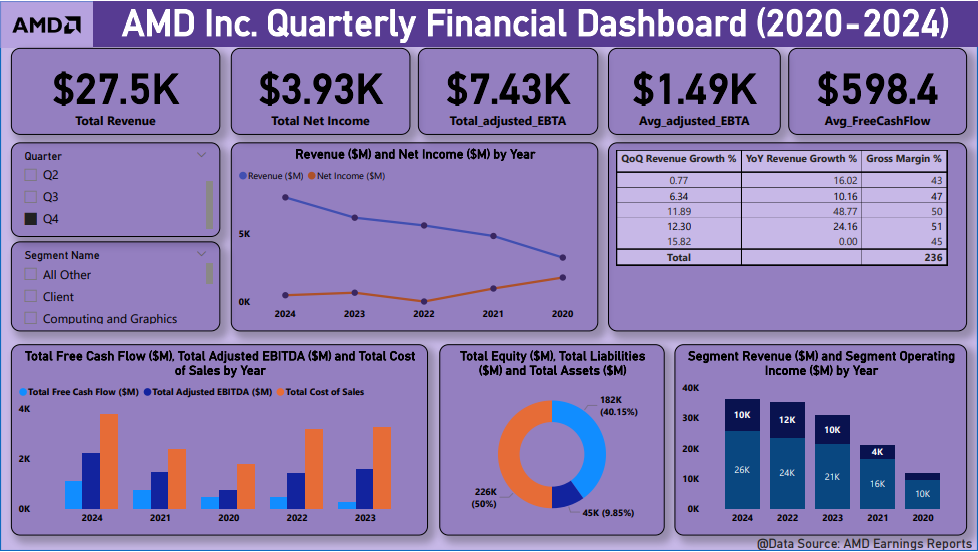

This screenshot's page, from the dashboard's own definition file:
{"tool":"powerbi","page":{"name":"Page 1","canvas":[1280,720],"ordinal":0},"visuals":[{"type":"shape","box":[0,0,1280,720],"z":0},{"type":"image","box":[0,0,121,60.5],"z":1000},{"type":"shape","title":"AMD Inc. Quarterly Financial Dashboard (2020-2024)","box":[121,0,1159.2,60.5],"z":2000},{"type":"shape","title":"@Data Source: AMD Earnings Reports","box":[990.7,699.8,289.4,18.7],"z":3000},{"type":"card","fields":{"Values":["master_financials.Total Revenue"]},"box":[14.4,60.5,273.6,113.8],"z":3001},{"type":"card","fields":{"Values":["master_financials.Total Net Income"]},"box":[302.4,60.5,234.7,113.8],"z":3002},{"type":"card","fields":{"Values":["master_financials.Total_adjusted_EBTA"]},"box":[547.2,60.5,236.2,113.8],"z":3003},{"type":"card","fields":{"Values":["master_financials.Avg_adjuste_EBTA"]},"box":[796.3,60.5,226.1,113.8],"z":3004},{"type":"card","fields":{"Values":["master_financials.Avg_FreeCashFlow"]},"box":[1032.5,60.5,233.3,113.8],"z":3005},{"type":"lineChart","fields":{"Category":["master_financials.Year"],"Y":["Sum(master_financials.Revenue ($M))","Sum(master_financials.Net Income ($M))"]},"box":[302.4,184.3,481,247.7],"z":3006},{"type":"slicer","fields":{"Values":["master_financials.Quarter"]},"box":[14.4,184.3,273.6,123.8],"z":3007},{"type":"slicer","fields":{"Values":["segment_performance.Segment Name"]},"box":[14.4,313.9,273.6,118.1],"z":3008},{"type":"clusteredColumnChart","fields":{"Y":["Sum(master_financials.Free Cash Flow ($M))","Sum(master_financials.Adjusted EBITDA ($M))","Sum(master_financials.Total Cost of Sales)"],"Category":["segment_performance.Year"]},"box":[14.4,449.3,545.8,250.6],"z":3009},{"type":"tableEx","fields":{"Values":["master_financials.QoQ Revenue Growth %","master_financials.YoY Revenue Growth %","Sum(master_financials.Gross Margin %)"]},"box":[796.3,184.3,469.4,247.7],"z":3010},{"type":"donutChart","fields":{"Y":["Sum(master_financials.Equity ($M))","Sum(master_financials.Liabilities ($M))","Sum(master_financials.Total Assets ($M))"]},"box":[574.6,449.3,295.2,250.6],"z":3011},{"type":"columnChart","fields":{"Y":["Sum(segment_performance.Segment Revenue ($M))","Sum(segment_performance.Segment Operating Income ($M))"],"Category":["master_financials.Year"]},"box":[882.7,449.3,383,250.6],"z":3012}]}

Visuals, with their boxes in screenshot pixels (x1, y1, x2, y2), scaled from the page's 1280x720 canvas onto the 978x552 screenshot:
shape: pyautogui.locateOnScreen(0, 0, 977, 551)
image: pyautogui.locateOnScreen(0, 0, 92, 46)
"AMD Inc. Quarterly Financial Dashboard (2020-2024)" shape: pyautogui.locateOnScreen(92, 0, 977, 46)
"@Data Source: AMD Earnings Reports" shape: pyautogui.locateOnScreen(757, 537, 977, 551)
card - master_financials.Total Revenue: pyautogui.locateOnScreen(11, 46, 220, 134)
card - master_financials.Total Net Income: pyautogui.locateOnScreen(231, 46, 410, 134)
card - master_financials.Total_adjusted_EBTA: pyautogui.locateOnScreen(418, 46, 599, 134)
card - master_financials.Avg_adjuste_EBTA: pyautogui.locateOnScreen(608, 46, 781, 134)
card - master_financials.Avg_FreeCashFlow: pyautogui.locateOnScreen(789, 46, 967, 134)
lineChart - master_financials.Year x Sum(master_financials.Revenue ($M)): pyautogui.locateOnScreen(231, 141, 599, 331)
slicer - master_financials.Quarter: pyautogui.locateOnScreen(11, 141, 220, 236)
slicer - segment_performance.Segment Name: pyautogui.locateOnScreen(11, 241, 220, 331)
clusteredColumnChart - Sum(master_financials.Free Cash Flow ($M)) x Sum(master_financials.Adjusted EBITDA ($M)): pyautogui.locateOnScreen(11, 344, 428, 537)
tableEx - master_financials.QoQ Revenue Growth % x master_financials.YoY Revenue Growth %: pyautogui.locateOnScreen(608, 141, 967, 331)
donutChart - Sum(master_financials.Equity ($M)) x Sum(master_financials.Liabilities ($M)): pyautogui.locateOnScreen(439, 344, 665, 537)
columnChart - Sum(segment_performance.Segment Revenue ($M)) x Sum(segment_performance.Segment Operating Income ($M)): pyautogui.locateOnScreen(674, 344, 967, 537)
